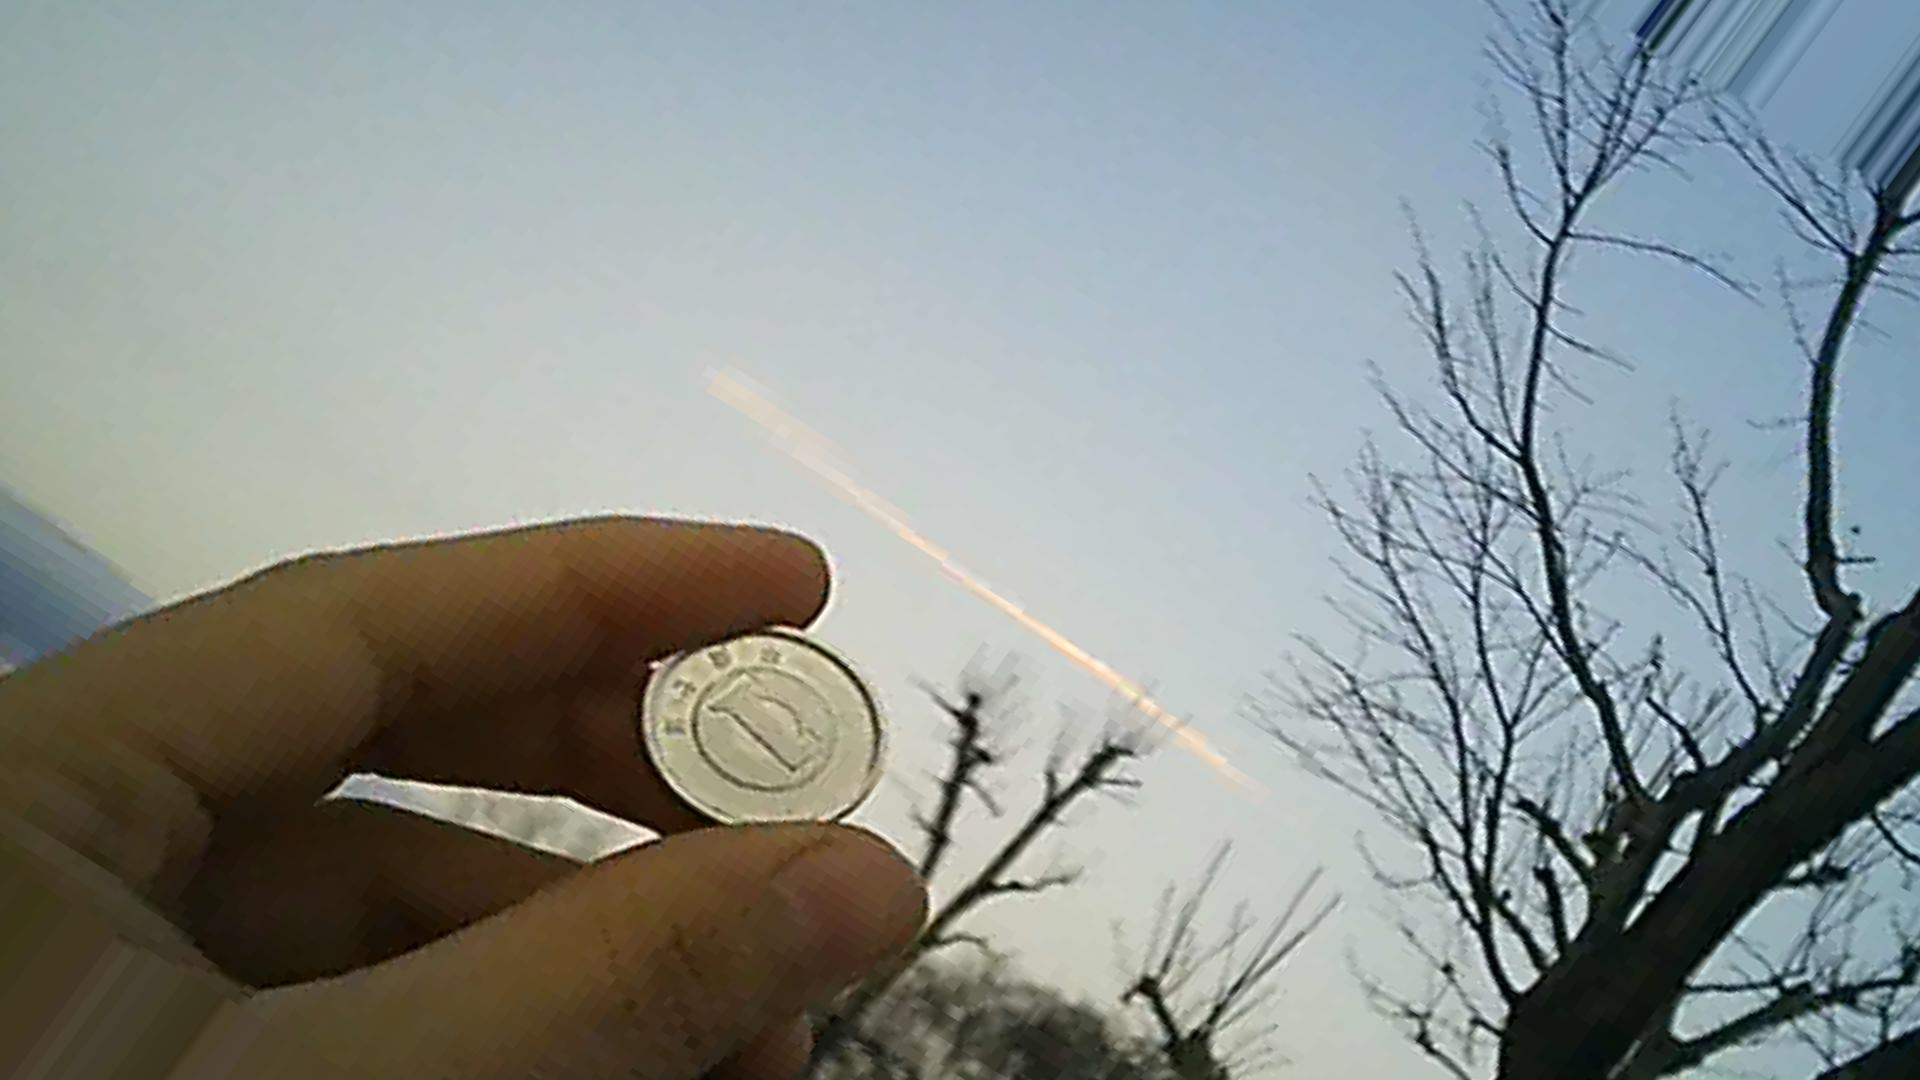1 Yen: (640, 615, 895, 822)
